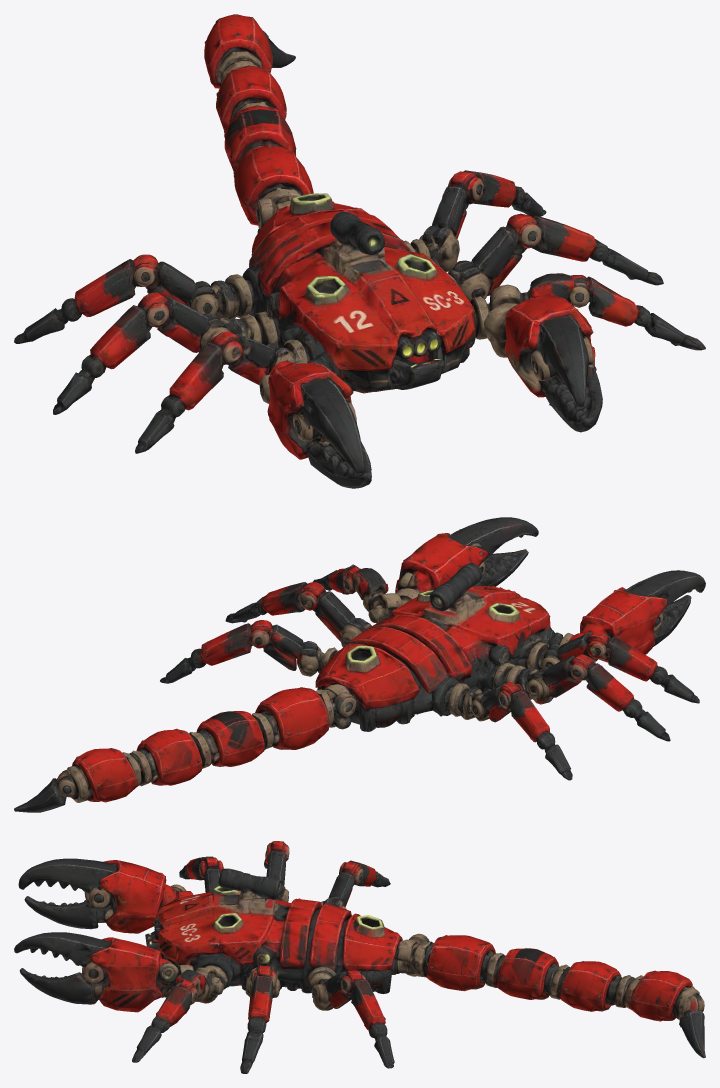
Rendered from scorpion.glb.
The picture shows the model from 3 angles, top to bottom: view 1: azimuth 30°, elevation 25°; view 2: azimuth 150°, elevation 25°; view 3: azimuth 270°, elevation 25°; orthographic projection. The views are drawn at different scales.
Size of the model in its own units: 2.4 by 0.5379 by 3.4.
1 material, 1 textured.
